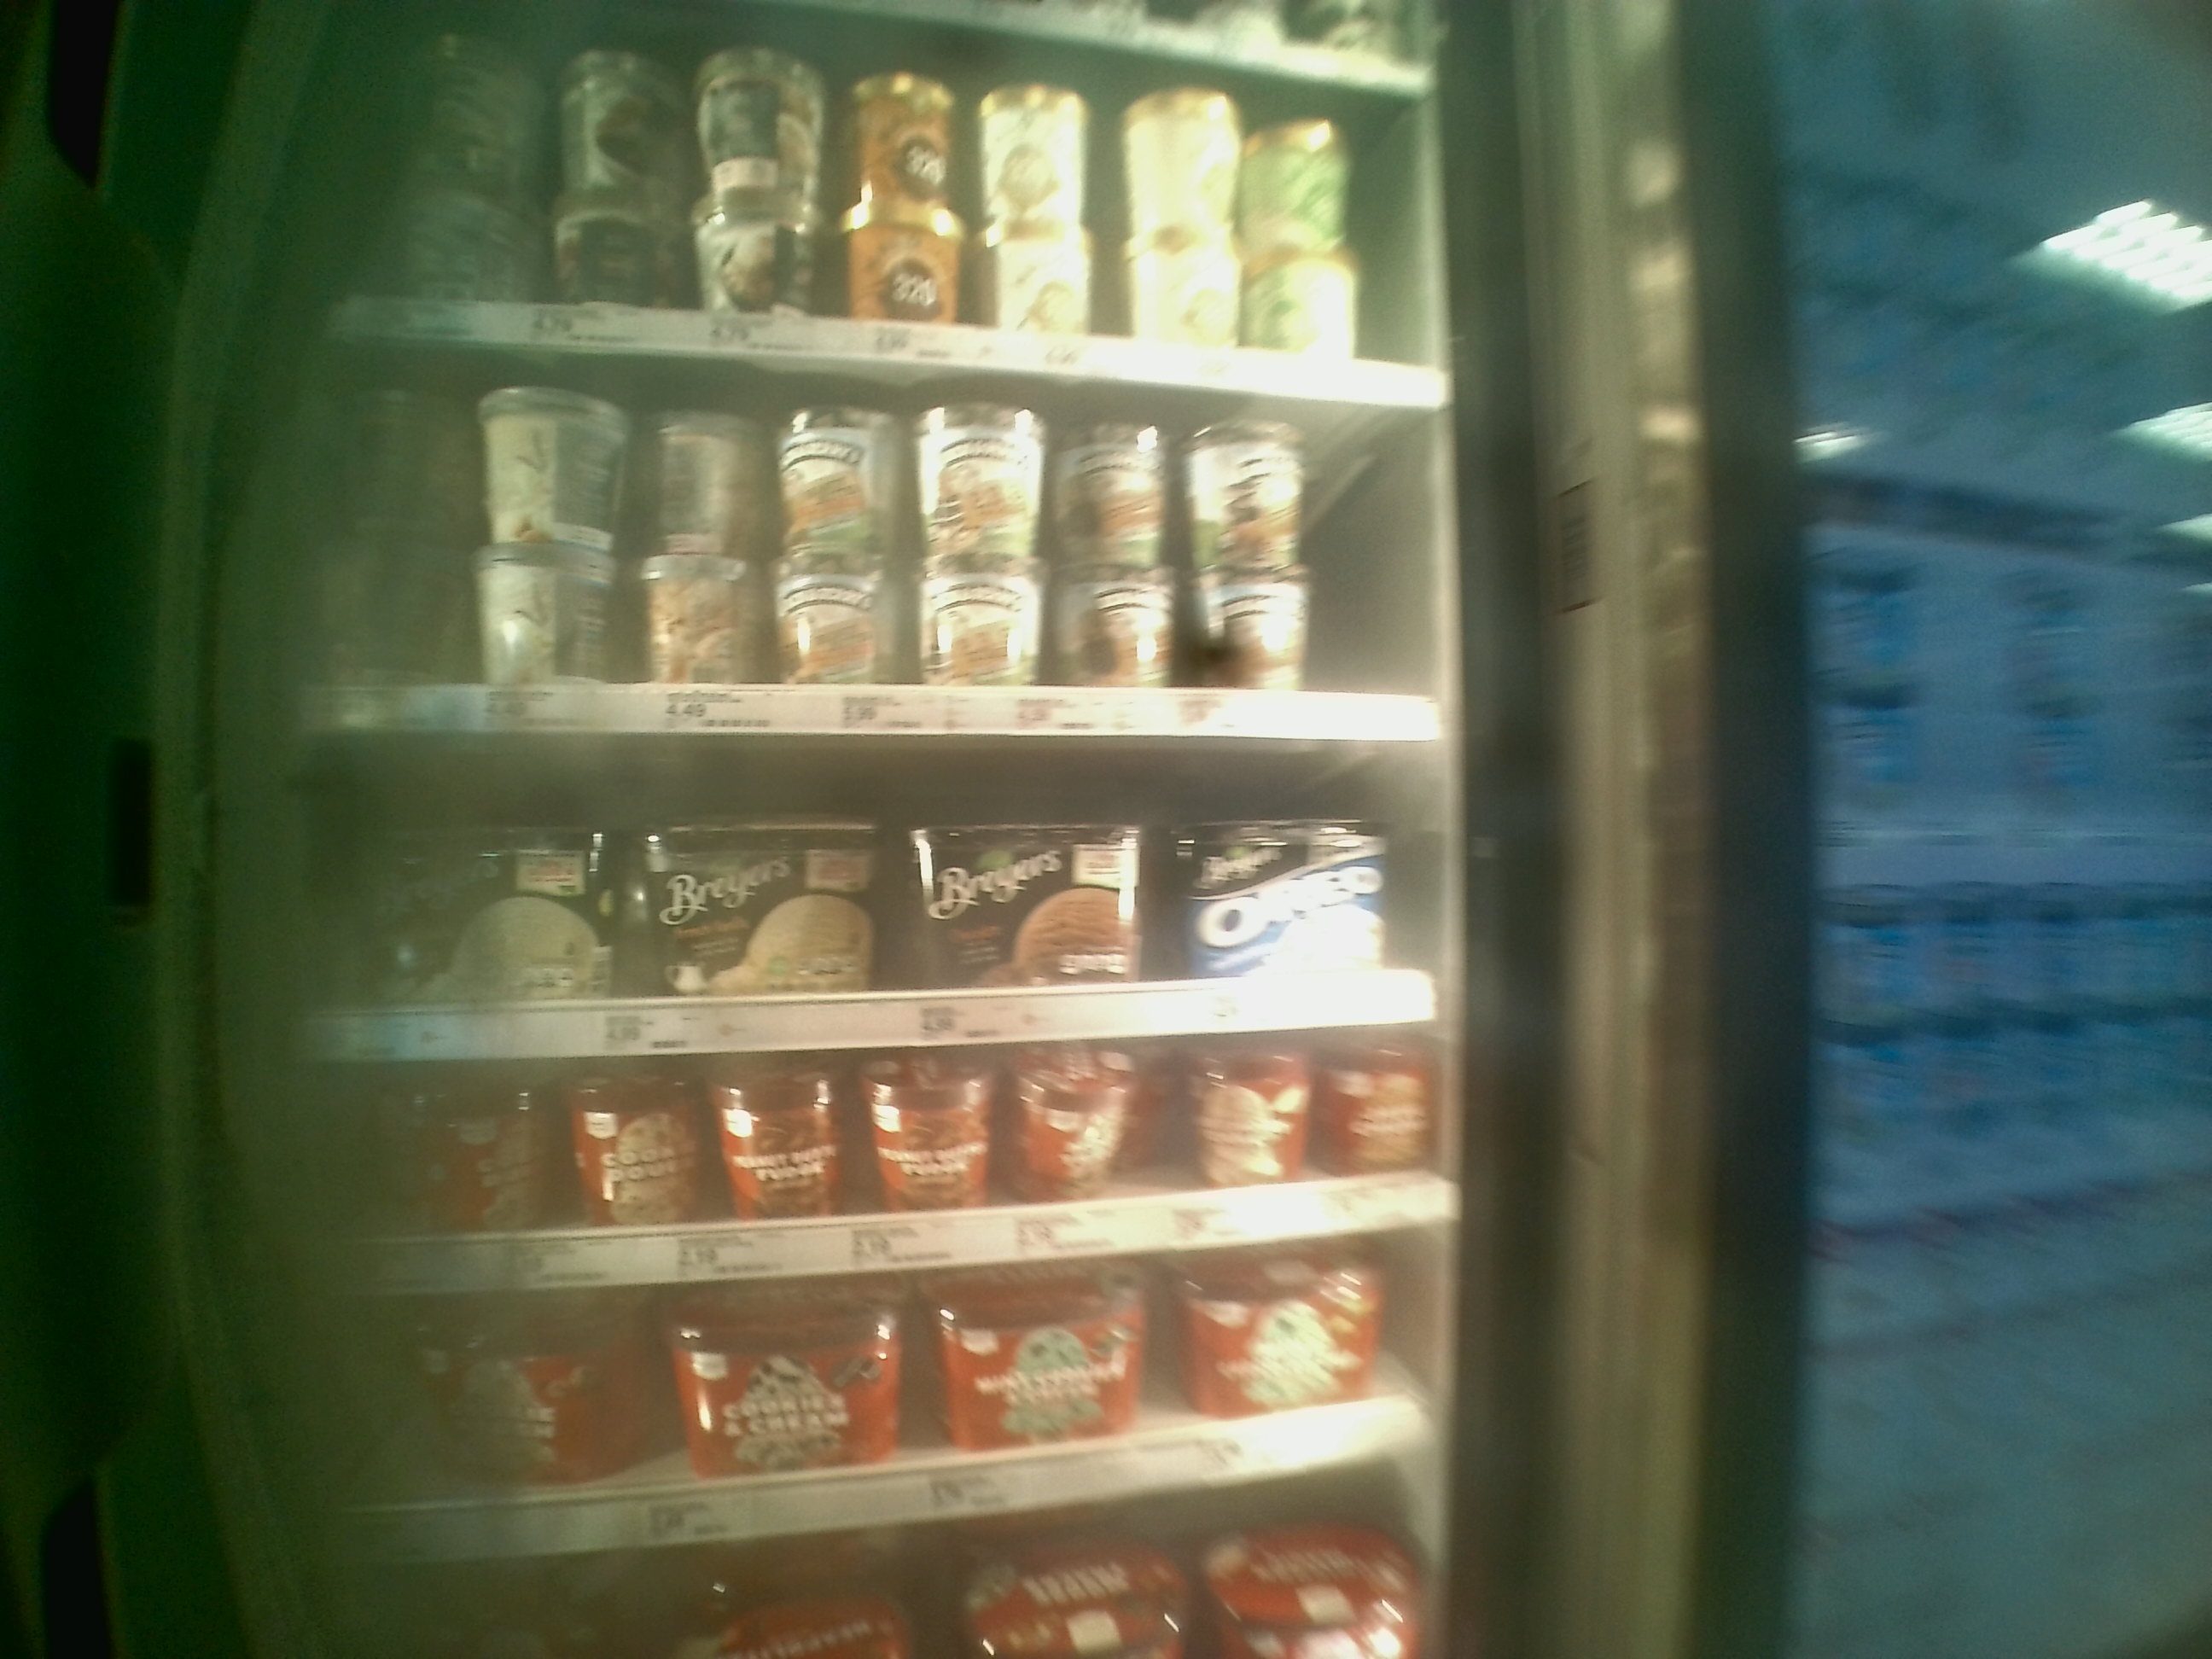shelf: (310, 350, 1449, 755), (308, 758, 1453, 1058), (319, 1298, 1435, 1563), (308, 1073, 1458, 1286)
